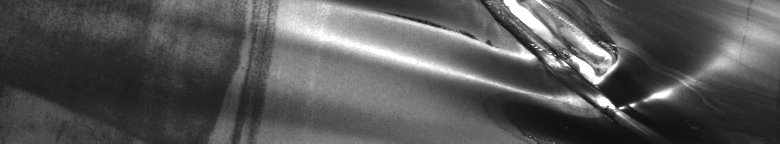ke: (348, 4, 700, 130)
